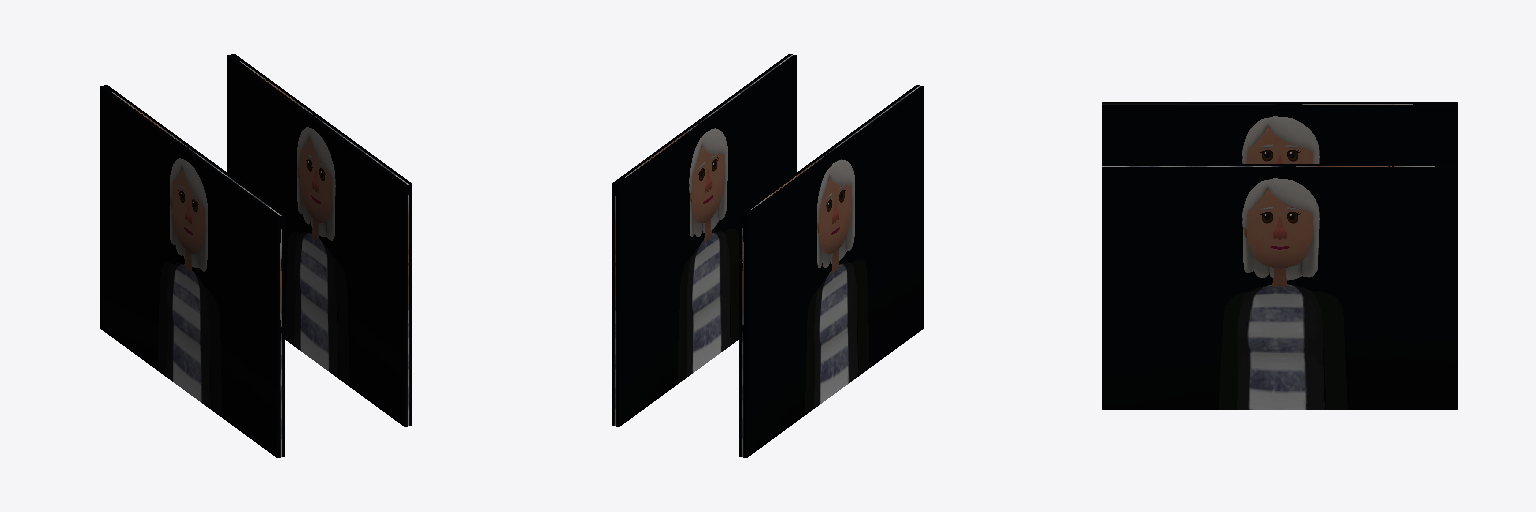
3 views of the same model, side by side, from view 1: azimuth 30°, elevation 25°; view 2: azimuth 150°, elevation 25°; view 3: azimuth 270°, elevation 25° (orthographic).
Size of the model in its own units: 21.22 by 36.23 by 48.34.
Materials: 1 (1 with a texture image).